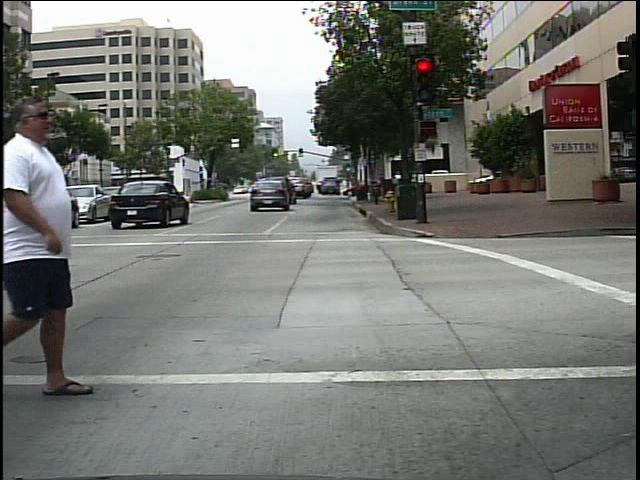person: (4, 90, 118, 400)
